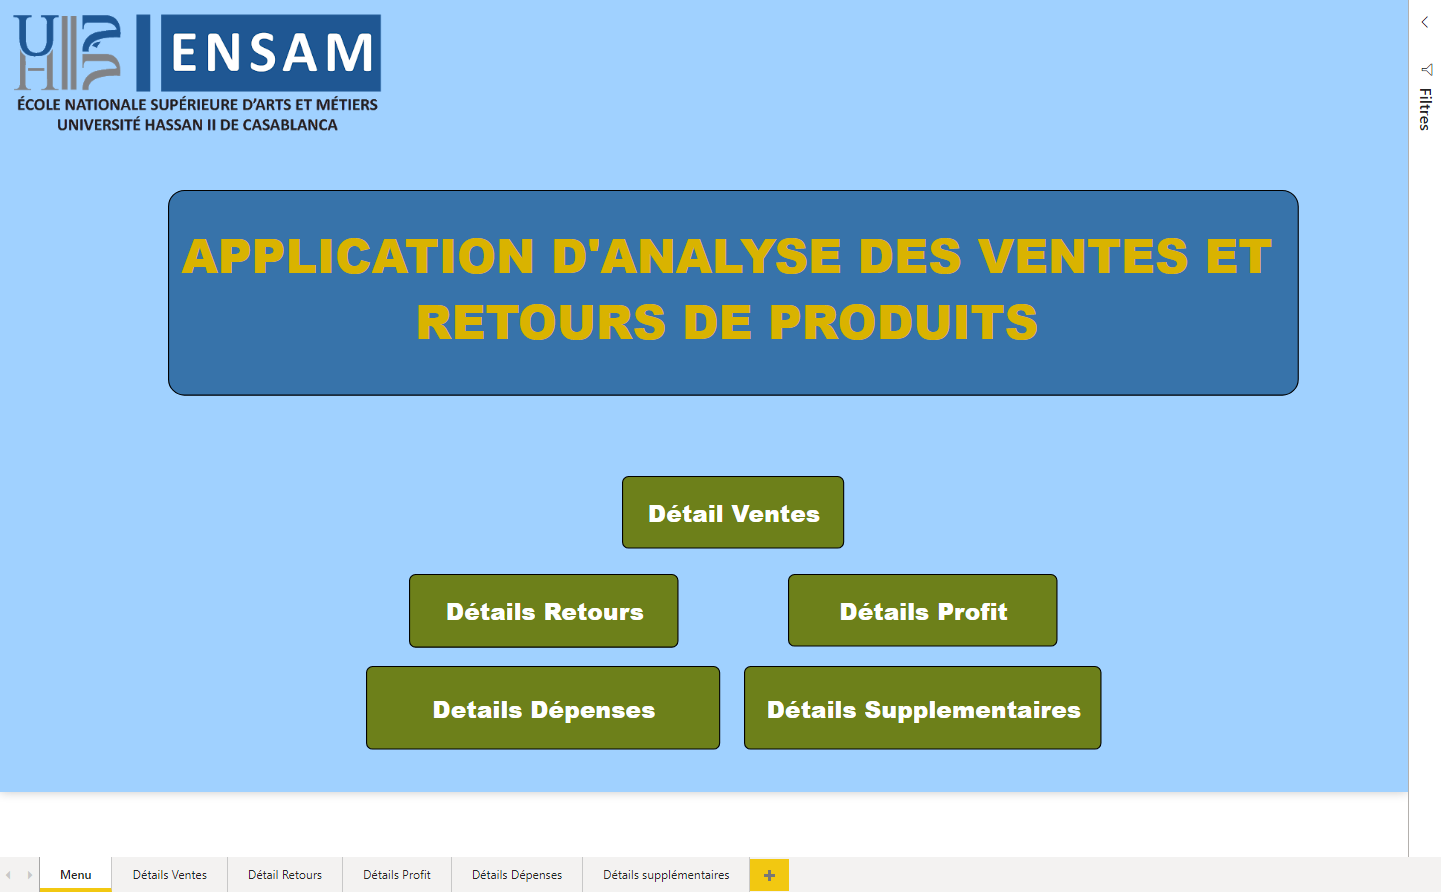

This screenshot's page, from the dashboard's own definition file:
{"tool":"powerbi","page":{"name":"Menu","canvas":[1280,720],"ordinal":0},"visuals":[{"type":"actionButton","box":[371.4,521.9,245.2,66.7],"z":0},{"type":"actionButton","box":[332.6,605.7,321.8,75.7],"z":1000},{"type":"textbox","box":[152.6,172.5,1028,186.8],"z":2000},{"type":"actionButton","box":[565.2,432.7,201.9,65.8],"z":3000},{"type":"actionButton","box":[676.1,605.7,325.4,75.7],"z":4000},{"type":"actionButton","box":[716.6,521.9,245.2,65.8],"z":5000},{"type":"image","box":[0,0,357.9,135.4],"z":6000}]}

Visuals, with their boxes on the page's 1280x720 design canvas (x1, y1, x2, y2). These are canvas units, not pixel positions in the 1441x892 screenshot, which may show the page scaled, cropped or inside an application window:
actionButton: x1=371 y1=522 x2=617 y2=589
actionButton: x1=333 y1=606 x2=654 y2=681
textbox: x1=153 y1=172 x2=1181 y2=359
actionButton: x1=565 y1=433 x2=767 y2=498
actionButton: x1=676 y1=606 x2=1002 y2=681
actionButton: x1=717 y1=522 x2=962 y2=588
image: x1=0 y1=0 x2=358 y2=135
